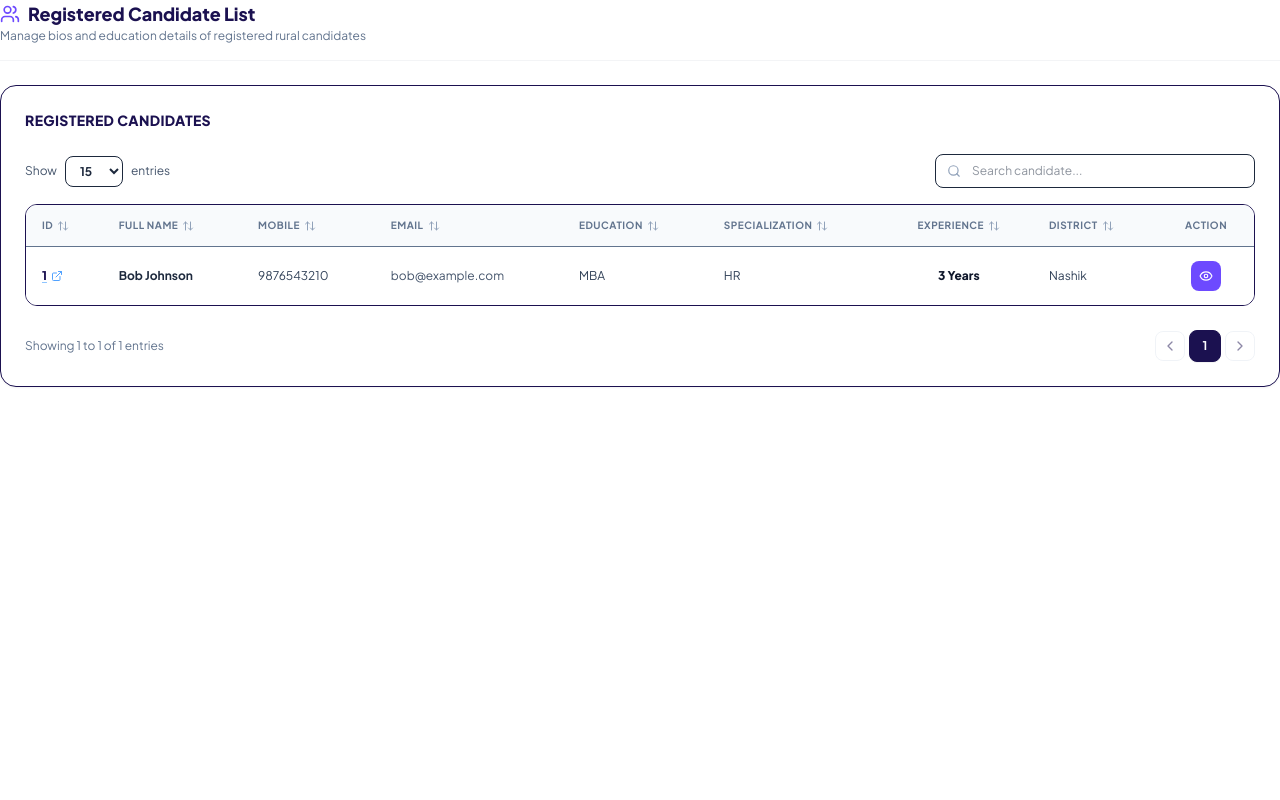
AdminRegisteredUsers › renders users list and opens detail modal
Expected: the text "Bob Johnson" is shown, [103,247,242,305]
Expected: the text "MBA" is shown, [563,247,708,305]
Click the button titled "View Profile" at (1206,276), box [1191,261,1221,291]
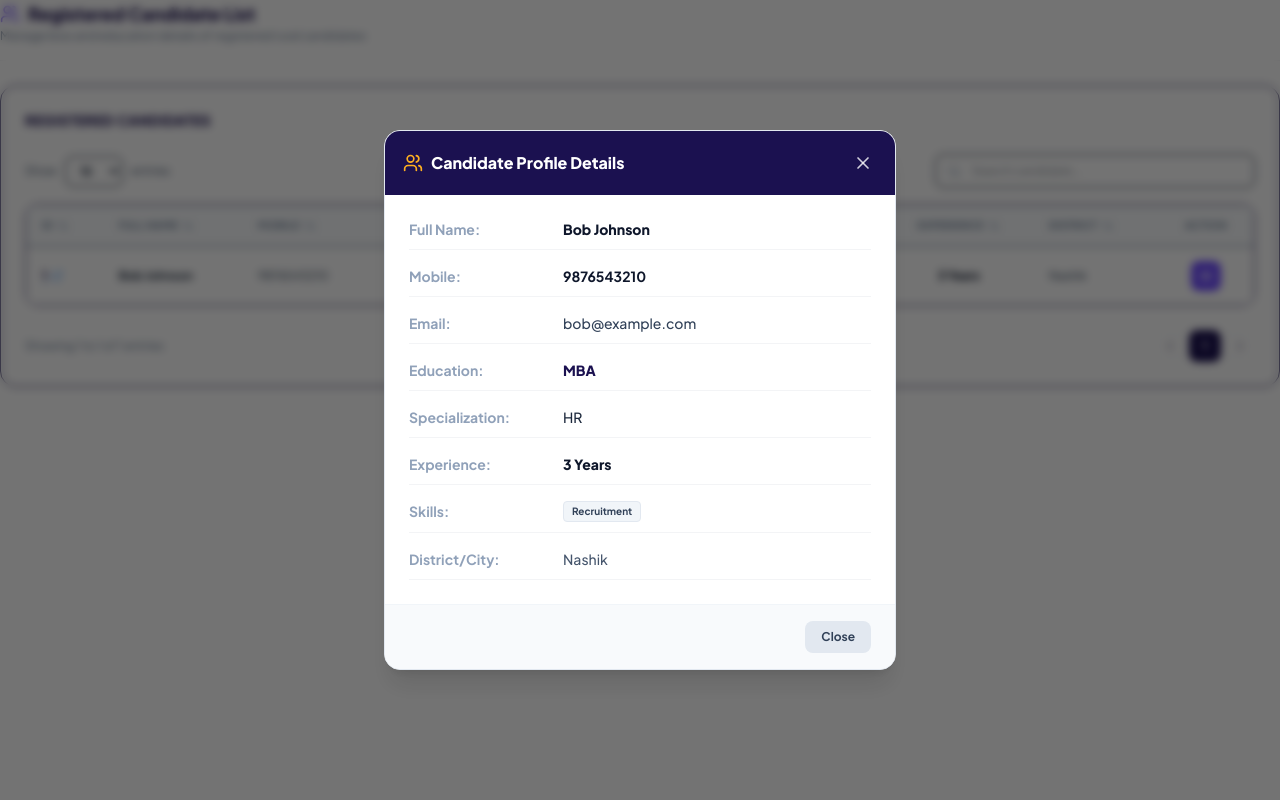
Expected: the heading "Candidate Profile Details" is shown, [431,151,624,175]
